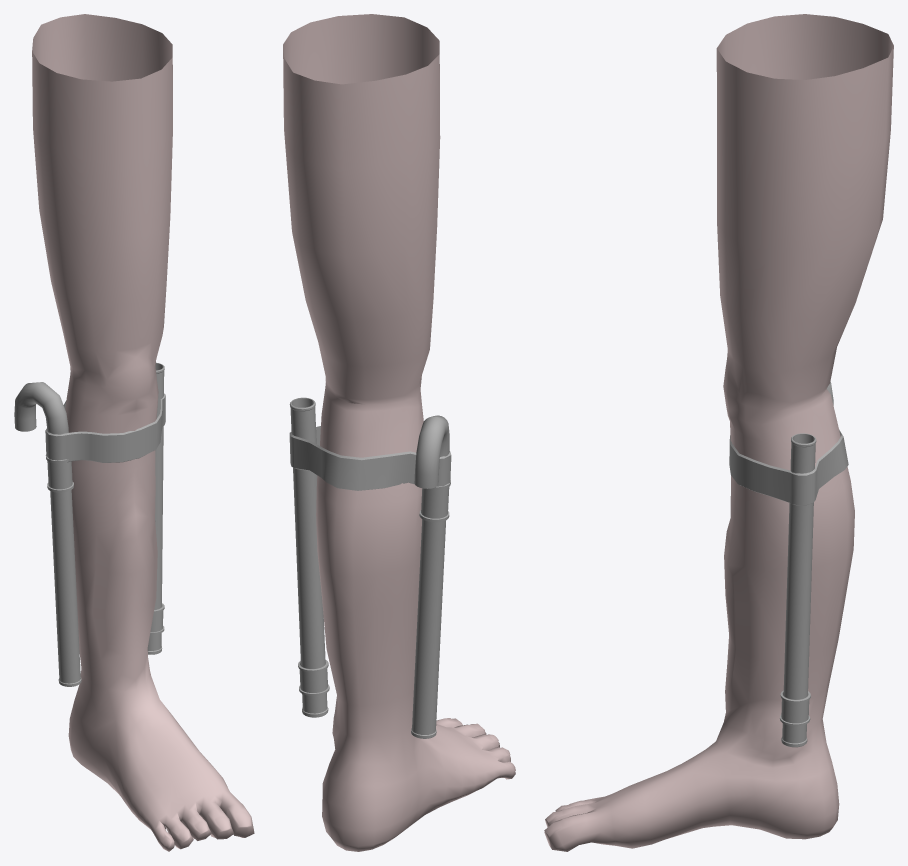
File: FBX_Fracture_Leg_4.fbx
3 renders of one model, left to right at view 1: azimuth 30°, elevation 25°; view 2: azimuth 150°, elevation 25°; view 3: azimuth 270°, elevation 25°, orthographic. The views are drawn at different scales.
Parts seen in each view (by area): view 1: polySurface5, polySurface4, pCylinder5, polySurface6; view 2: polySurface5, polySurface4, polySurface6, pCylinder5; view 3: polySurface5, polySurface6, pCylinder5.
Boxes of the visible parts, box(x1,y1,x2,y2) form: polySurface5: box(32, 14, 254, 851); polySurface4: box(14, 382, 81, 686); pCylinder5: box(45, 393, 165, 462); polySurface6: box(147, 362, 164, 654); polySurface5: box(283, 14, 515, 851); polySurface4: box(411, 415, 450, 738); polySurface6: box(289, 397, 329, 717); pCylinder5: box(289, 426, 451, 490); polySurface5: box(544, 14, 893, 851); polySurface6: box(779, 433, 816, 747); pCylinder5: box(729, 429, 848, 505).
Bounding box in the file's own units: 1.65 × 8.14 × 3.25.
